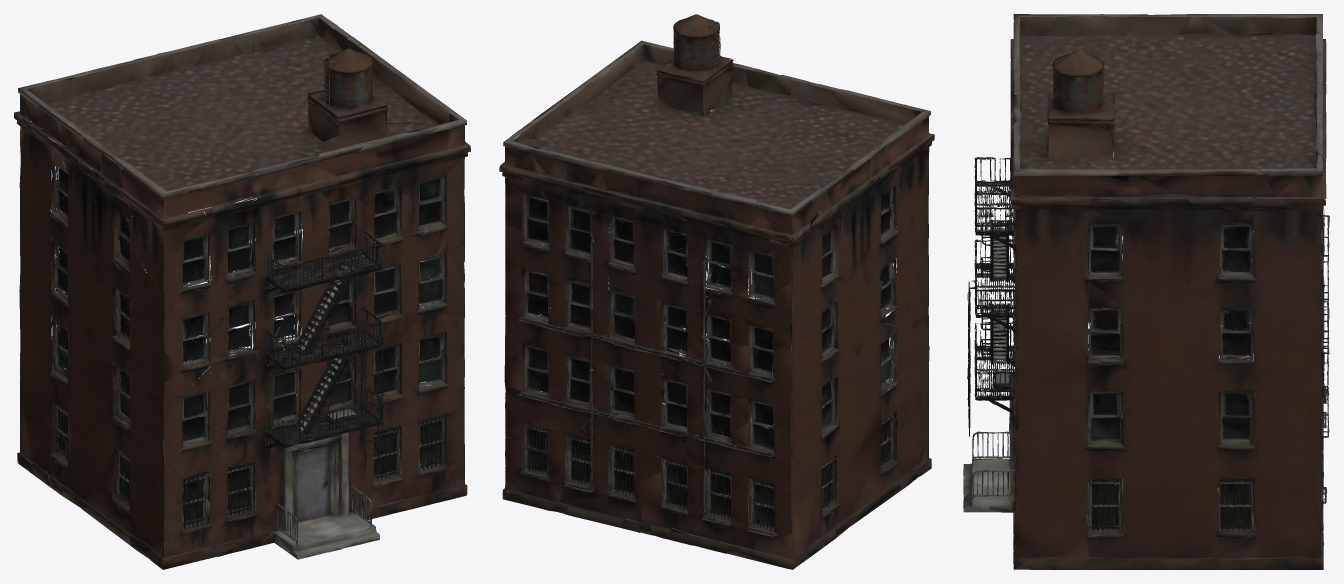
File: apt-02-brick.glb
3 renders of one model, left to right at view 1: azimuth 30°, elevation 25°; view 2: azimuth 150°, elevation 25°; view 3: azimuth 270°, elevation 25°, orthographic. The views are drawn at different scales.
Parts seen in each view (by area): view 1: geometry_0; view 2: geometry_0; view 3: geometry_0.
Part boxes in pixels (box(x1,y1,x2,y2)): geometry_0: box(14, 14, 470, 569); geometry_0: box(499, 14, 934, 569); geometry_0: box(963, 14, 1329, 569).
Bounding box in the file's own units: 1.39 × 1.9 × 1.33.
Materials: 1 (1 with a texture image).
